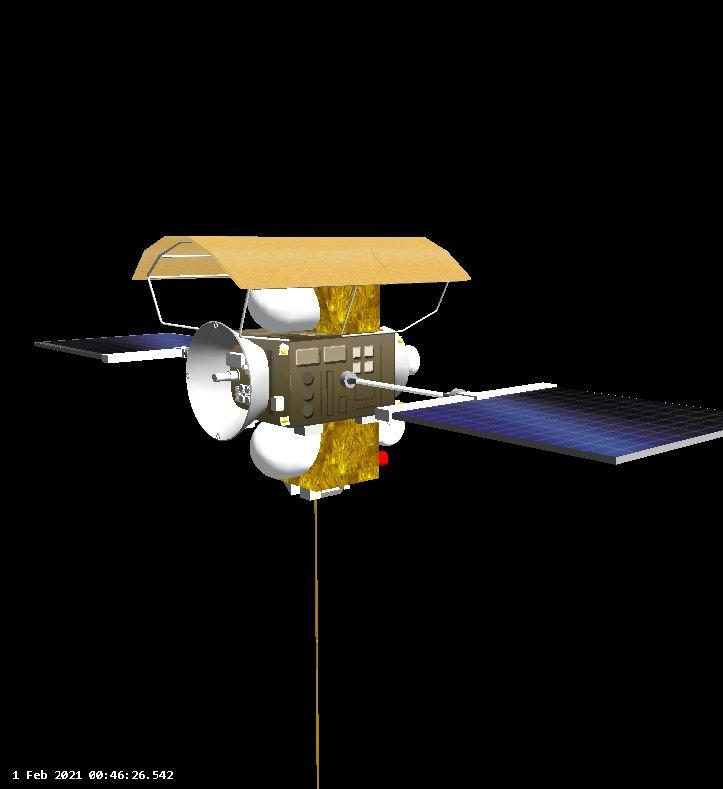antenna: (185, 319, 269, 444), (307, 492, 330, 789)
body: (257, 273, 385, 501)
solar: (374, 382, 723, 468), (30, 332, 200, 368)
thruster: (403, 341, 423, 379), (375, 448, 394, 475), (281, 349, 288, 355), (398, 338, 404, 344), (282, 418, 289, 423), (398, 402, 404, 405)
